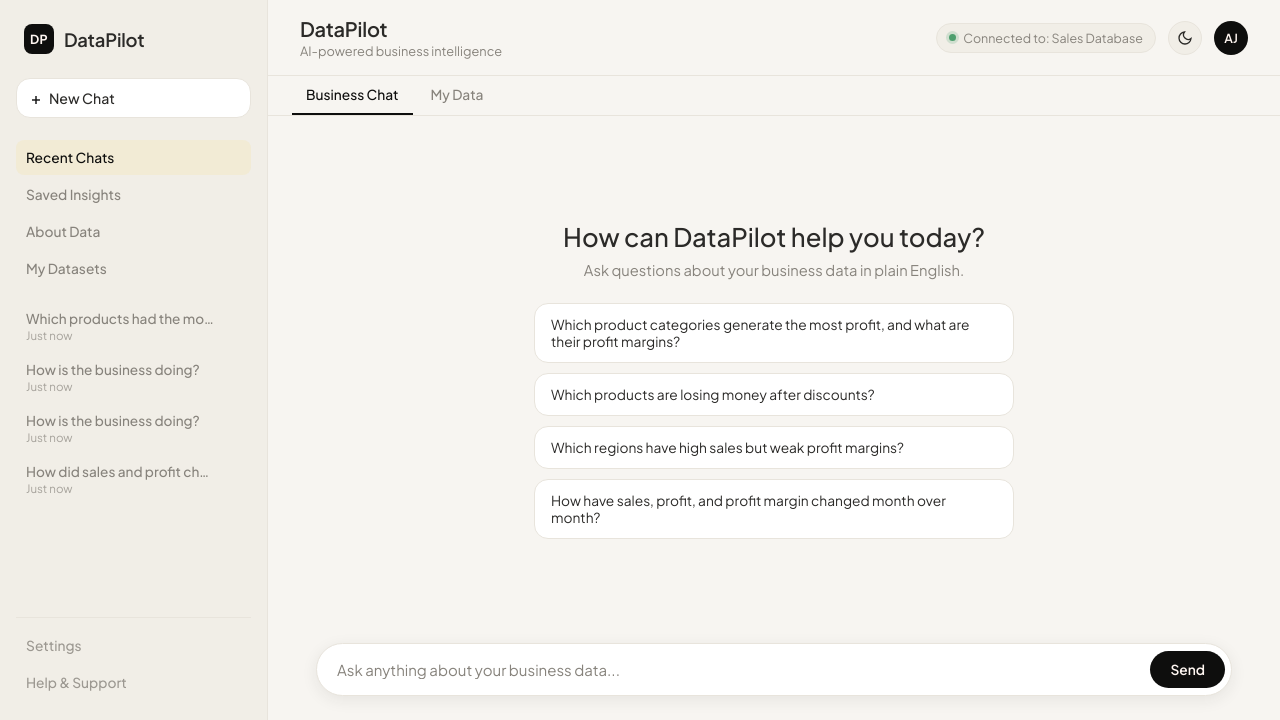
Test: dataset import & catalog › deletes a dataset after confirmation and removes it from the list
Click the button "My Datasets" at (134, 268), box [16,251,251,286]
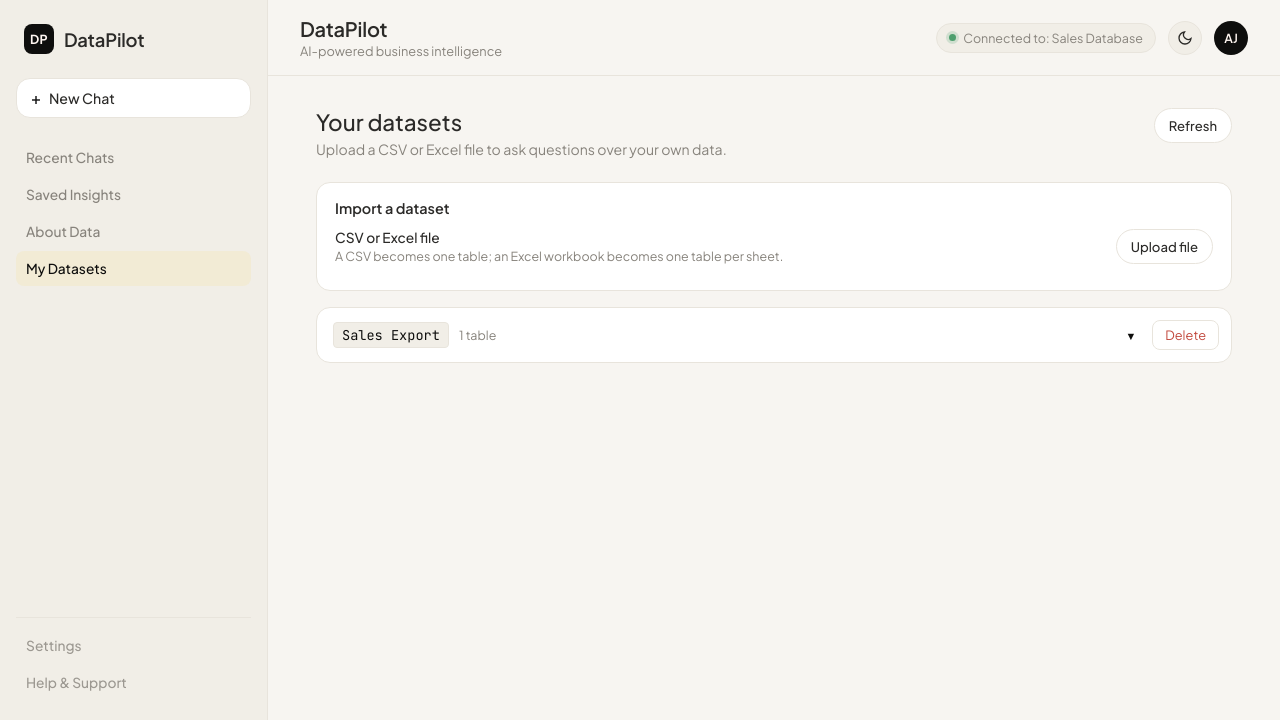
Expected: the text "Sales Export" is shown, [333,322,449,348]
Click the button with aria-label "Delete Sales Export" at (1186, 335), box [1152,320,1219,350]
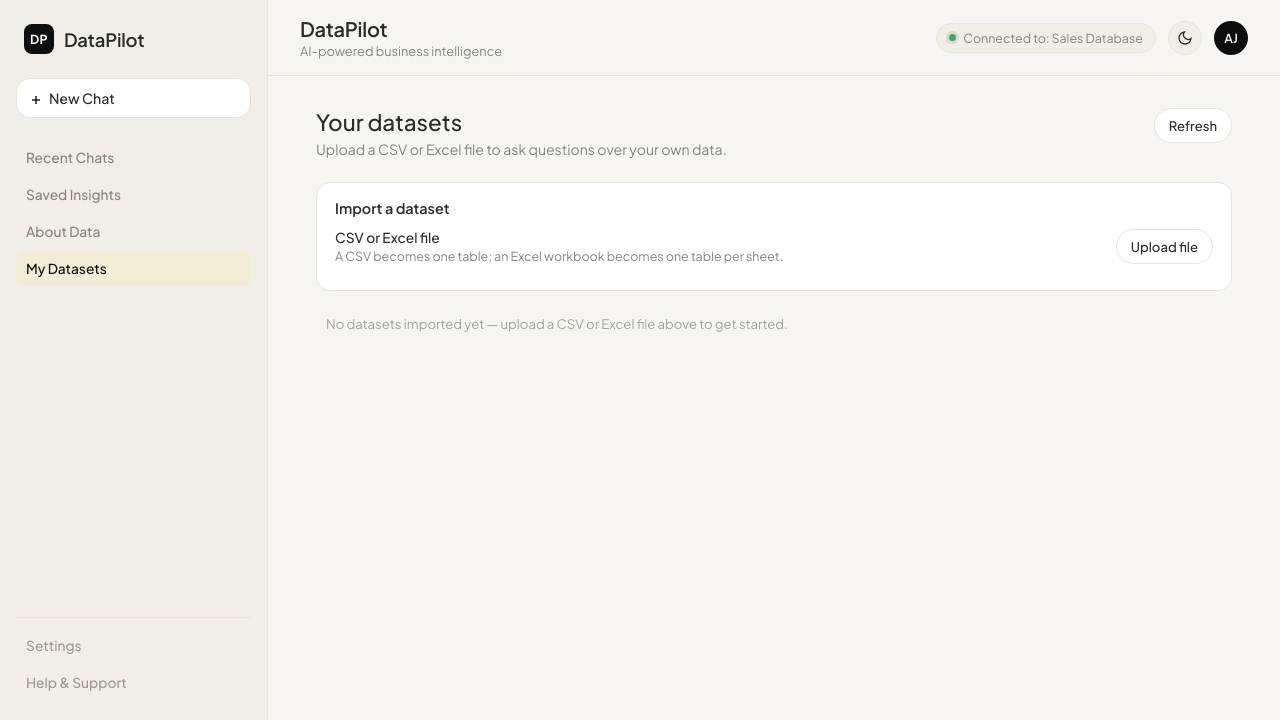
Expected: the button "Sales Export" is gone
